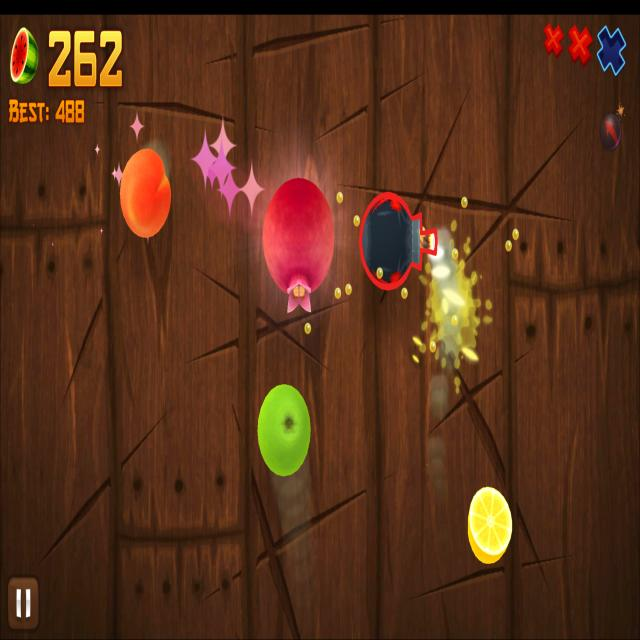bomb: (357, 192, 438, 292)
fruit: (264, 178, 336, 313), (256, 382, 311, 478), (120, 146, 172, 240)
